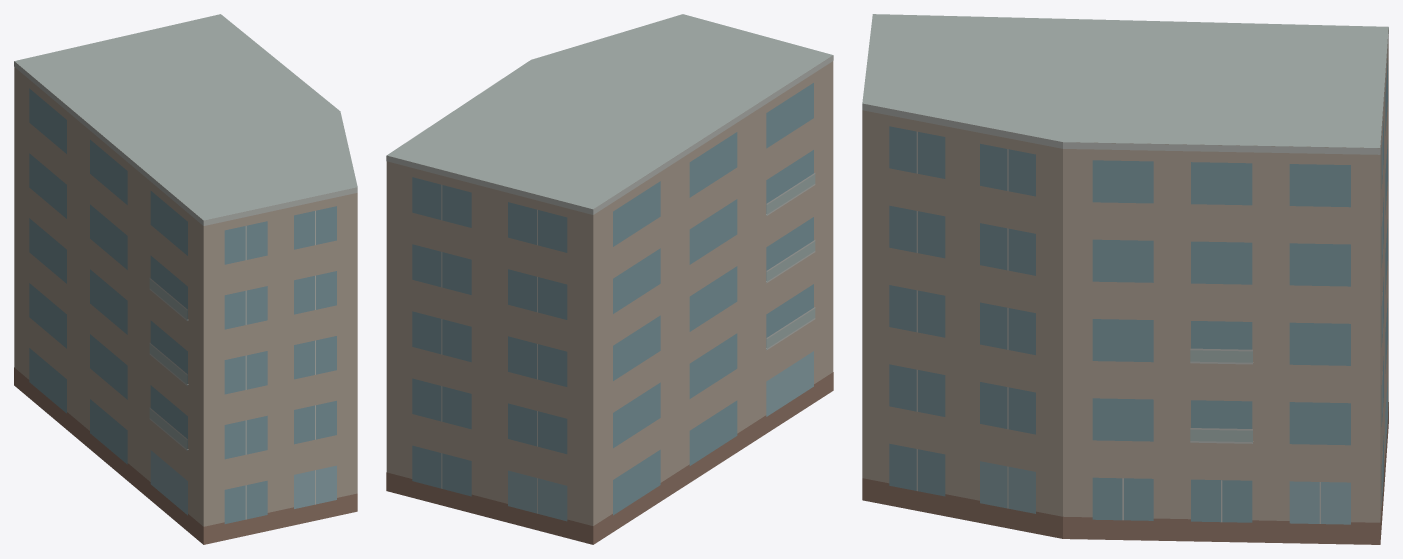
Rendered from survey-upis-32764826.glb.
The picture shows the model from 3 angles, left to right: view 1: azimuth 30°, elevation 25°; view 2: azimuth 150°, elevation 25°; view 3: azimuth 270°, elevation 25°; orthographic projection. The views are drawn at different scales.
Parts seen in each view (by area): view 1: survey-upis-32764826.tmp; view 2: survey-upis-32764826.tmp; view 3: survey-upis-32764826.tmp.
Part boxes in pixels (x1,y1,x2,y2): survey-upis-32764826.tmp: [14, 14, 357, 544]; survey-upis-32764826.tmp: [386, 14, 833, 544]; survey-upis-32764826.tmp: [862, 14, 1388, 544].
Size of the model in its own units: 10.37 by 14.3 by 17.2.
